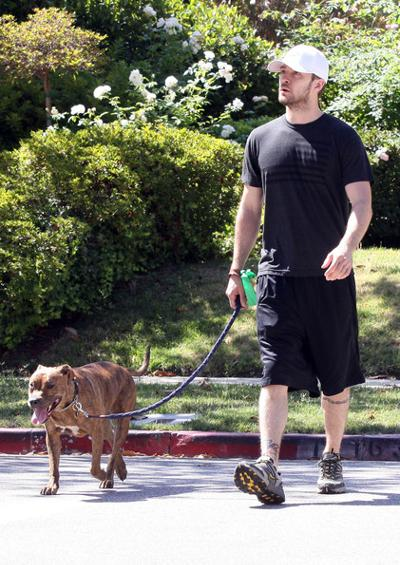person: (228, 45, 371, 506)
